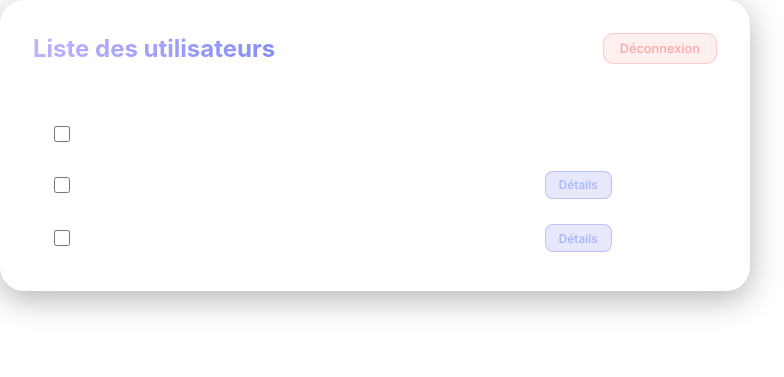
Test case: UserList - mode admin (avec token) › affiche une erreur si le chargement des détails échoue
Click the button "Détails" in the row of "Dupont" at x=578, y=185, box [545,171,612,199]
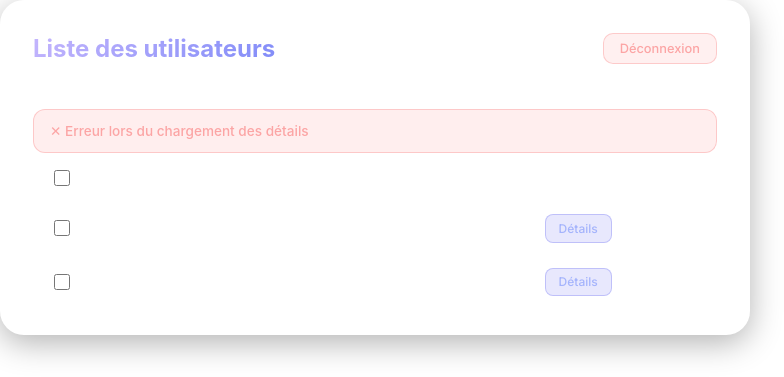
Expected: the text "✕ Erreur lors du chargement des détails" is shown, [33,109,717,153]
